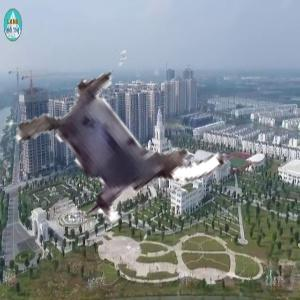drone: (12, 43, 217, 248)
